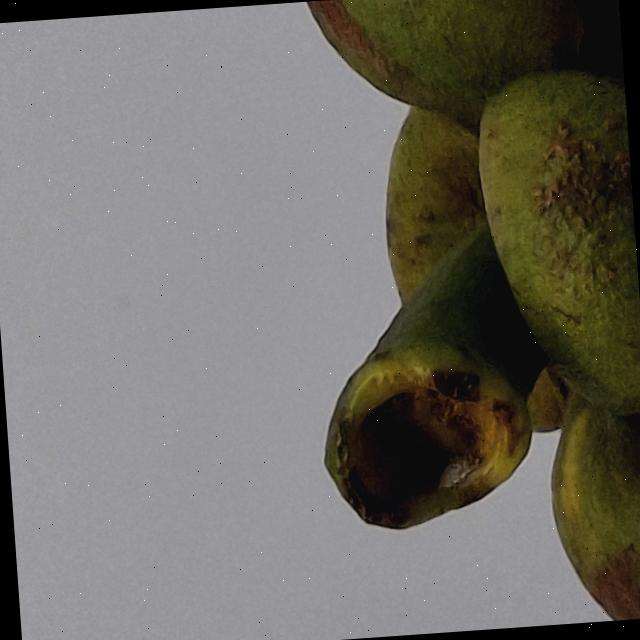mangosteen: (257, 0, 640, 640)
